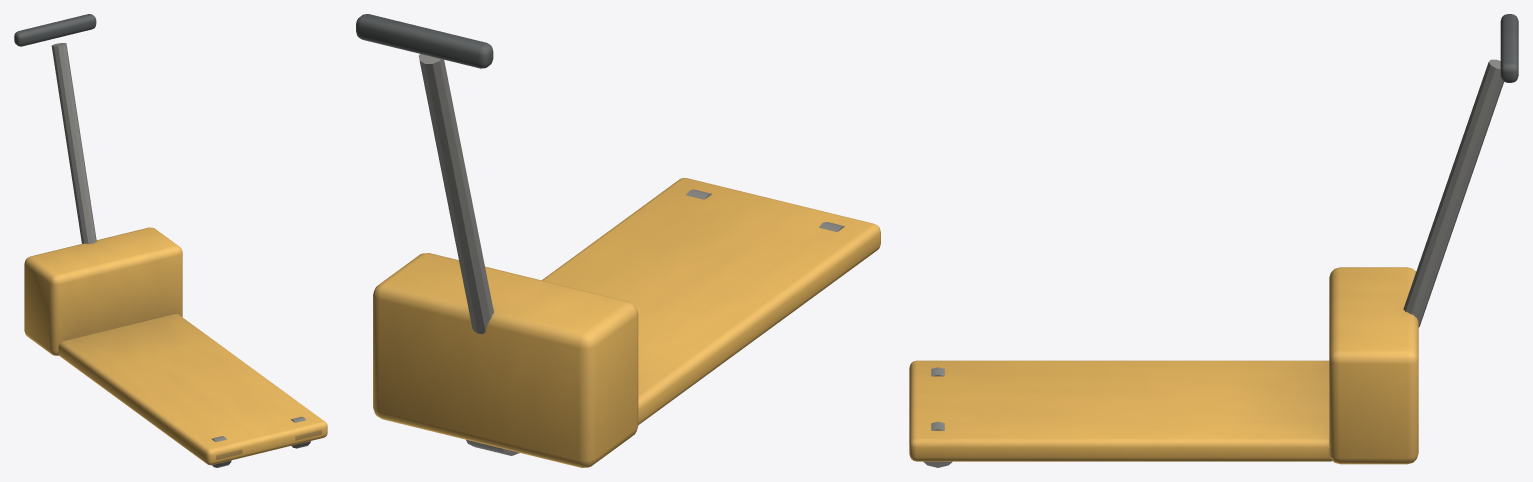
File: PalletJack.fbx
The picture shows the model from 3 angles, left to right: view 1: azimuth 30°, elevation 25°; view 2: azimuth 150°, elevation 25°; view 3: azimuth 270°, elevation 25°; orthographic projection. The views are drawn at different scales.
Parts seen in each view (by area): view 1: PalletJack; view 2: PalletJack; view 3: PalletJack.
Boxes of the visible parts, left/top/right/bottom form: PalletJack: left=14, top=14, right=327, bottom=467; PalletJack: left=356, top=14, right=880, bottom=467; PalletJack: left=909, top=14, right=1518, bottom=467.
Size of the model in its own units: 60 by 123 by 171.
